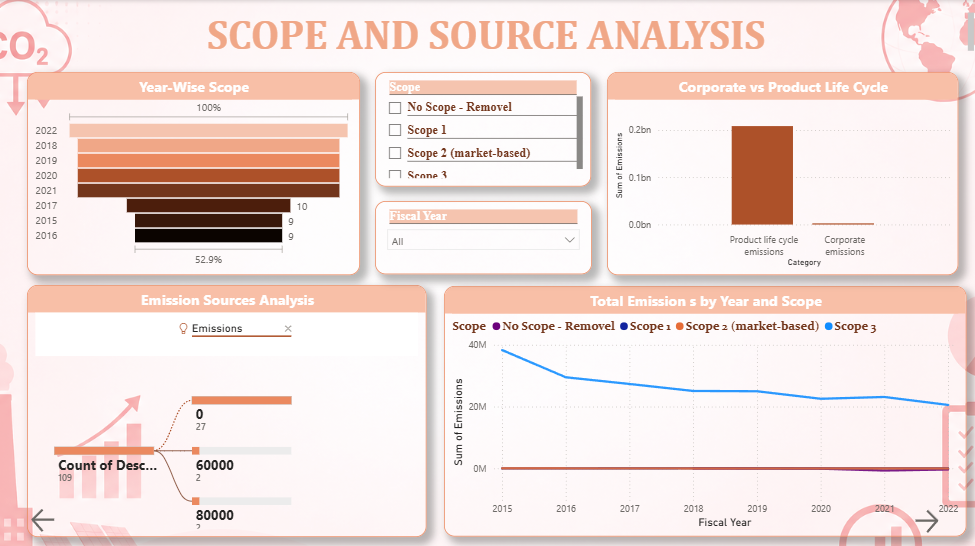

The dashboard page shown, as its layout file describes it:
{"tool":"powerbi","page":{"name":"Scope And Source Analysis","canvas":[1280,720],"ordinal":2},"visuals":[{"type":"funnel","title":"Year-Wise Scope","fields":{"Category":["greenhouse_gas_emissions.Fiscal Year"],"Y":["CountNonNull(greenhouse_gas_emissions.Scope)"]},"box":[35.7,94.3,435.7,265.7],"z":0},{"type":"lineChart","title":"Total Emission s by Year and Scope","fields":{"Y":["Sum(greenhouse_gas_emissions.Emissions)"],"Category":["normalizing_factors.Fiscal Year"],"Series":["greenhouse_gas_emissions.Scope"]},"box":[581.8,374.4,684,328.3],"z":1000},{"type":"clusteredColumnChart","title":"Corporate vs Product Life Cycle","fields":{"Category":["greenhouse_gas_emissions.Category"],"Y":["Sum(greenhouse_gas_emissions.Emissions)"]},"box":[794.3,94.3,460,265.7],"z":2000},{"type":"decompositionTreeVisual","title":"Emission Sources Analysis","fields":{"Analyze":["CountNonNull(greenhouse_gas_emissions.Description)"],"ExplainBy":["greenhouse_gas_emissions.Emissions"]},"box":[35.7,372.9,522.9,330],"z":3000},{"type":"slicer","fields":{"Values":["greenhouse_gas_emissions.Fiscal Year"]},"box":[491,263.5,283.7,96.5],"z":4000},{"type":"slicer","fields":{"Values":["greenhouse_gas_emissions.Scope"]},"box":[491.4,94.3,282.9,150],"z":5000},{"type":"textbox","box":[0,10.1,1280.2,66.2],"z":6000},{"type":"actionButton","box":[36,661,99.4,40.3],"z":7000},{"type":"actionButton","box":[1192.3,662.4,73.4,40.3],"z":8000}]}

Visuals, with their boxes in screenshot pixels (x1, y1, x2, y2), scaled from the page's 1280x720 canvas onto the 975x546 screenshot:
"Year-Wise Scope" funnel: region(27, 72, 359, 273)
"Total Emission s by Year and Scope" lineChart: region(443, 284, 964, 533)
"Corporate vs Product Life Cycle" clusteredColumnChart: region(605, 72, 955, 273)
"Emission Sources Analysis" decompositionTreeVisual: region(27, 283, 425, 533)
slicer - greenhouse_gas_emissions.Fiscal Year: region(374, 200, 590, 273)
slicer - greenhouse_gas_emissions.Scope: region(374, 72, 590, 185)
textbox: region(0, 8, 974, 58)
actionButton: region(27, 501, 103, 532)
actionButton: region(908, 502, 964, 533)
